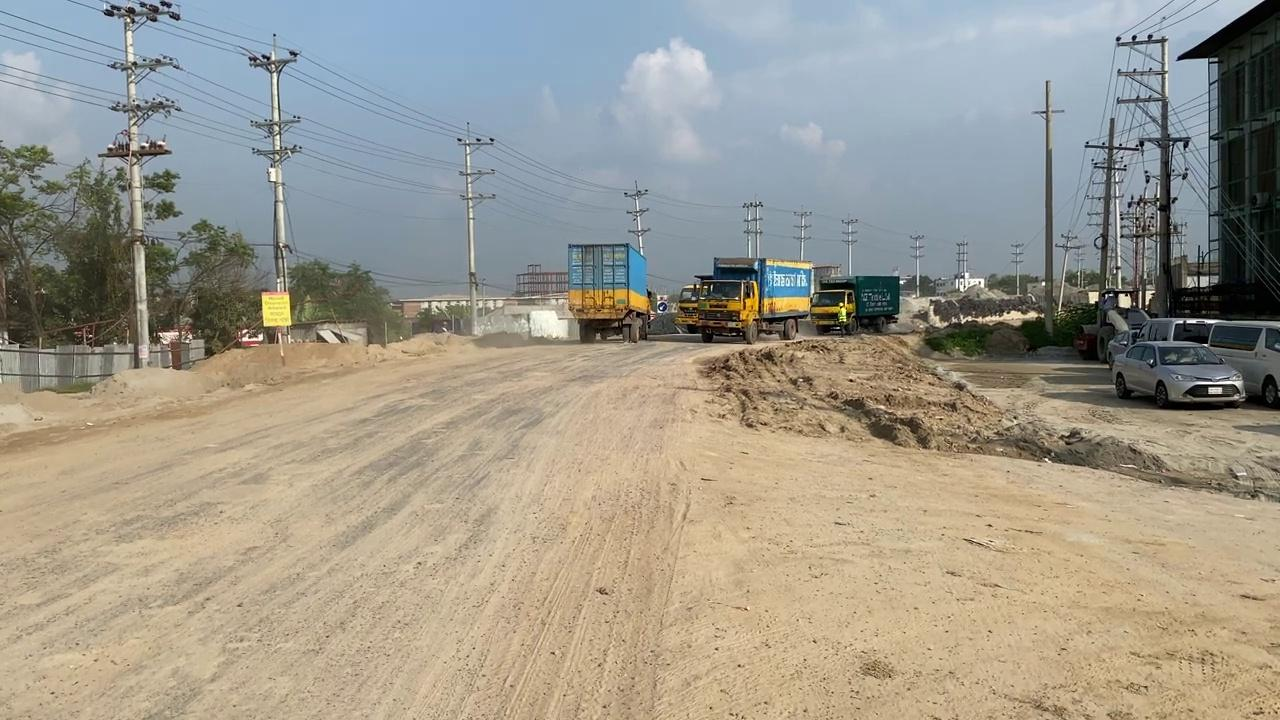Bollard: (692, 255, 814, 344)
Car: (1111, 340, 1246, 409)
Fence: (0, 338, 205, 393)
Muddy road: (728, 325, 1018, 441)
Pole: (98, 0, 181, 367), (244, 33, 302, 361), (1031, 79, 1065, 335), (456, 122, 495, 334)
Tree: (566, 241, 652, 343), (1072, 287, 1151, 362), (809, 274, 900, 335), (673, 283, 699, 333)
